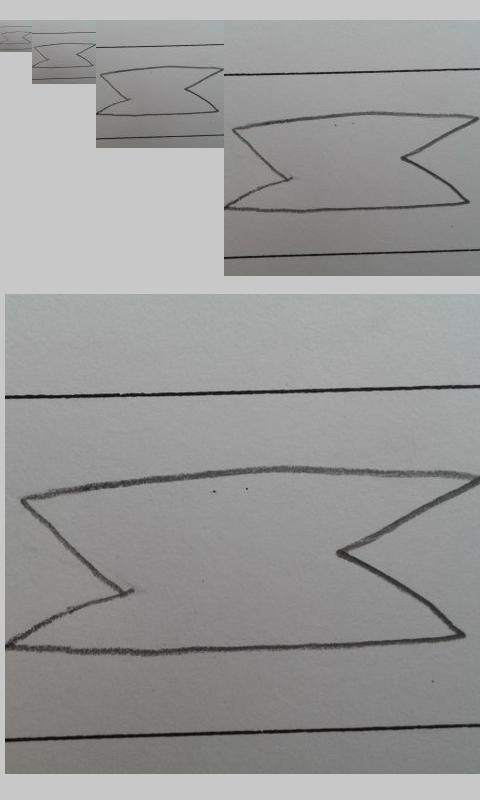edit_text: (13, 463, 479, 660), (227, 110, 480, 214), (97, 64, 222, 117), (33, 42, 94, 68), (1, 30, 31, 45)
